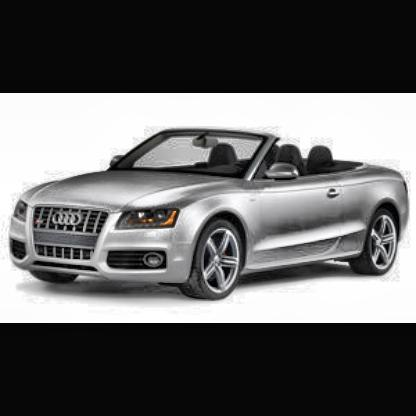Audi S5 Convertible 2012: (10, 126, 413, 304)
